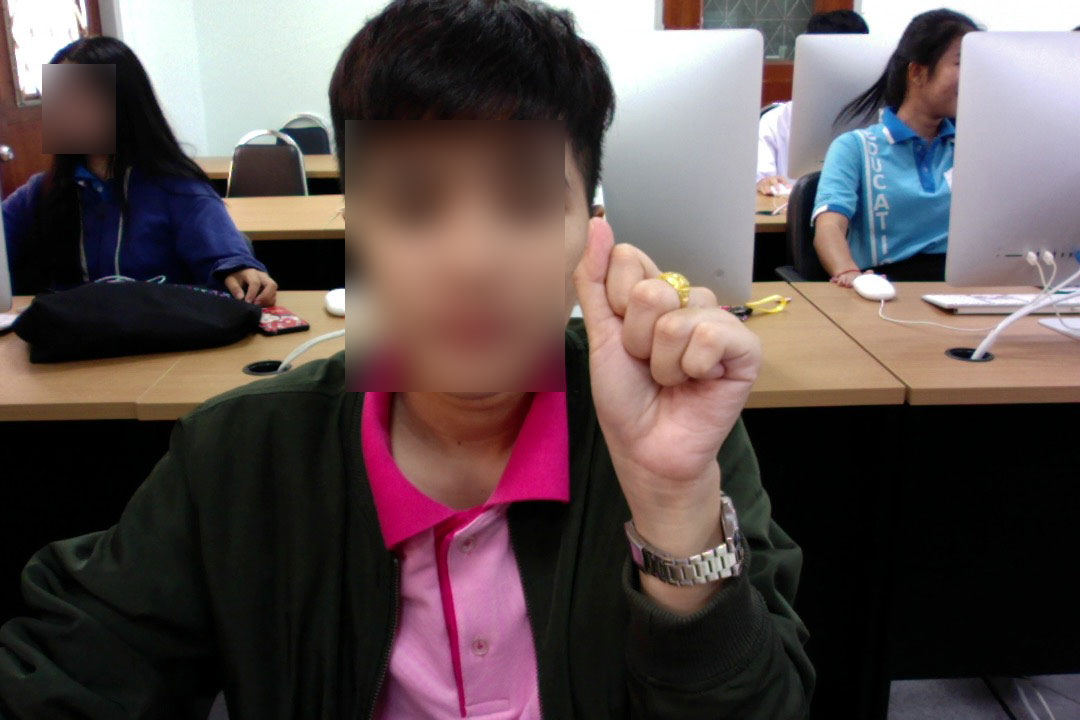or: (569, 208, 771, 504)
